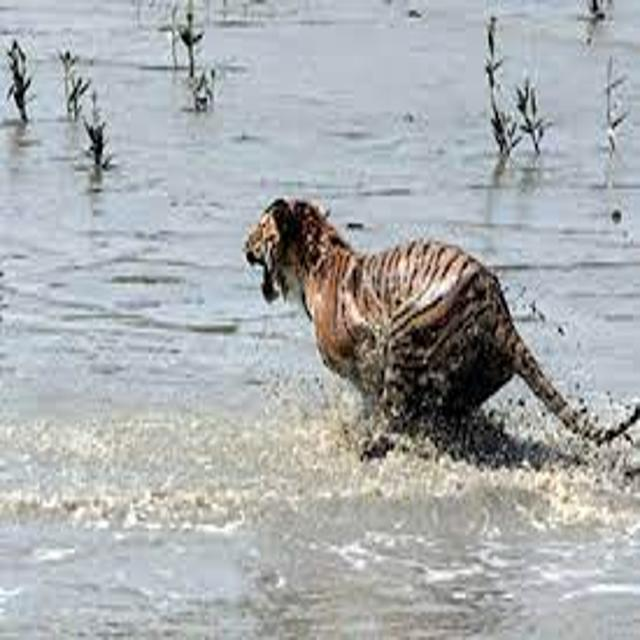tiger: (215, 165, 640, 510)
